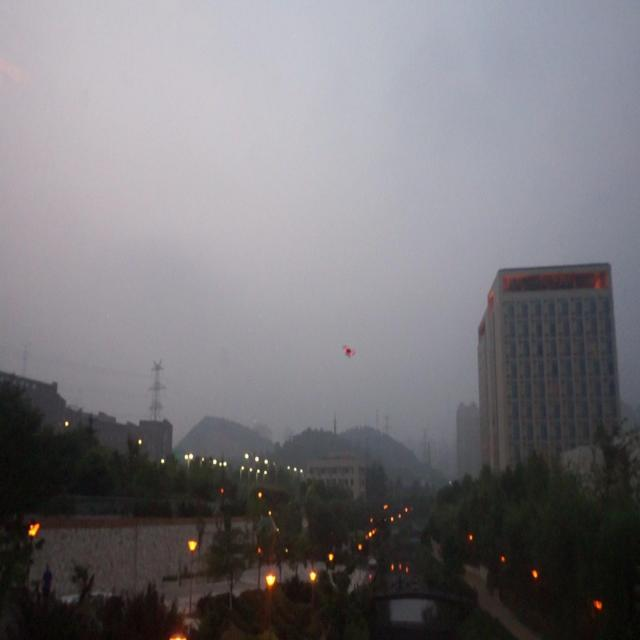UAV: (342, 345, 356, 358)
